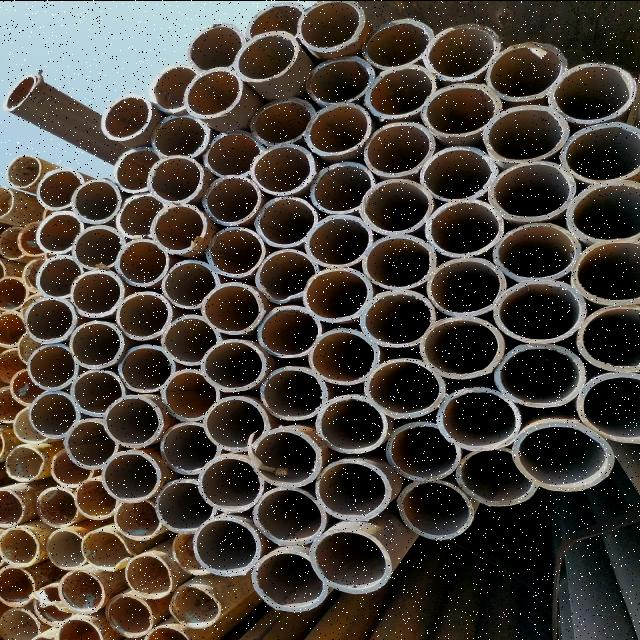pipe: (512, 418, 614, 492), (491, 340, 585, 408), (492, 279, 586, 342), (436, 385, 522, 451), (490, 220, 580, 282), (308, 528, 390, 594), (488, 158, 576, 218), (420, 315, 502, 379), (548, 61, 634, 122), (456, 444, 540, 506), (482, 101, 568, 161), (362, 357, 444, 418), (559, 120, 639, 182), (393, 478, 473, 540), (485, 40, 567, 100), (314, 458, 392, 520), (426, 257, 504, 317), (252, 548, 326, 610), (426, 197, 502, 257), (250, 485, 326, 545), (422, 22, 500, 80), (420, 144, 498, 202), (576, 372, 640, 442), (565, 180, 639, 240), (314, 393, 388, 453), (358, 290, 436, 346), (572, 240, 640, 304), (422, 82, 502, 136), (192, 516, 264, 576), (385, 421, 459, 479), (576, 305, 640, 371), (250, 428, 322, 486), (359, 178, 433, 234), (361, 232, 435, 288), (363, 120, 435, 176), (197, 452, 264, 512), (302, 100, 372, 154), (302, 267, 372, 321), (259, 363, 325, 420), (202, 394, 268, 450), (153, 478, 219, 534), (304, 213, 372, 267), (252, 248, 318, 302), (362, 16, 430, 68), (308, 161, 376, 213), (200, 338, 266, 391), (233, 29, 300, 81), (366, 65, 434, 116), (305, 54, 373, 105), (200, 280, 264, 334), (250, 142, 316, 194), (256, 304, 322, 356), (296, 1, 364, 51), (253, 195, 317, 247), (99, 448, 159, 502), (200, 173, 262, 225), (160, 422, 222, 474), (160, 313, 223, 364), (248, 96, 314, 144), (181, 66, 241, 118), (160, 368, 220, 420), (62, 416, 120, 469), (205, 226, 265, 276), (186, 20, 242, 73), (103, 394, 159, 447), (148, 203, 206, 254), (160, 259, 220, 308), (114, 236, 172, 286), (202, 129, 262, 177), (148, 61, 202, 113), (114, 290, 172, 338), (22, 293, 76, 343), (146, 154, 202, 202), (68, 268, 124, 316), (117, 343, 173, 391), (70, 368, 126, 416), (150, 113, 210, 157), (70, 176, 124, 224), (68, 319, 122, 367), (114, 192, 170, 238), (27, 390, 80, 438), (246, 1, 306, 43), (70, 226, 126, 270), (26, 342, 78, 389), (100, 94, 152, 140), (112, 146, 164, 192), (34, 208, 86, 254), (80, 527, 134, 571), (168, 584, 222, 628), (57, 565, 105, 614), (104, 592, 154, 638), (124, 552, 174, 598), (35, 166, 85, 210), (114, 497, 164, 540), (34, 254, 82, 297), (44, 526, 88, 570), (74, 476, 120, 518), (33, 584, 79, 626), (3, 442, 48, 482), (172, 532, 214, 574), (34, 486, 78, 526), (0, 524, 41, 566), (11, 403, 53, 441), (10, 368, 50, 407), (51, 448, 92, 486), (15, 332, 59, 367), (0, 563, 35, 606), (16, 216, 52, 256), (2, 74, 40, 110), (21, 254, 55, 294), (0, 606, 40, 640), (5, 153, 42, 188), (0, 346, 32, 384), (54, 618, 104, 640), (0, 487, 26, 527), (0, 225, 29, 259), (1, 274, 28, 310), (1, 310, 27, 346), (0, 383, 24, 422), (143, 624, 193, 640), (0, 183, 14, 219)
